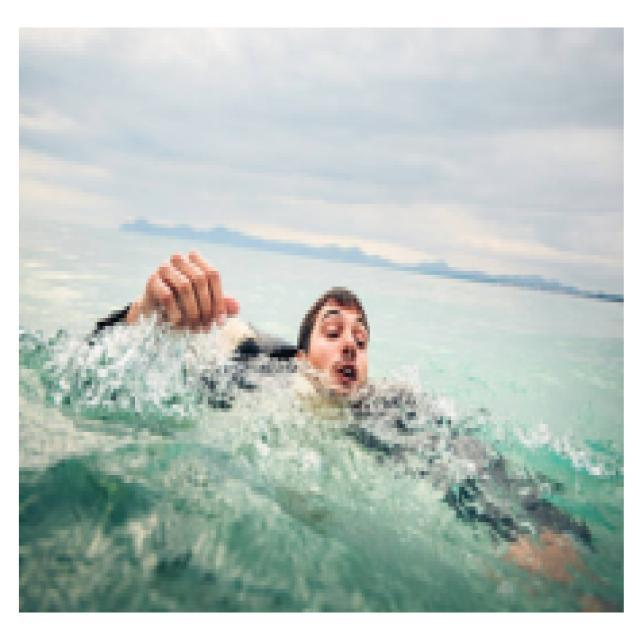drowning: (87, 236, 376, 428)
